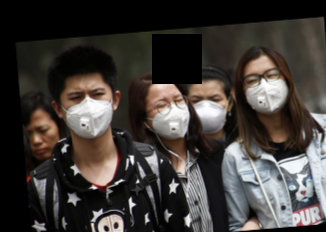with_mask: (60, 83, 115, 139), (242, 65, 290, 113), (144, 90, 191, 138), (187, 88, 231, 134)
without_mask: (24, 120, 60, 161)
